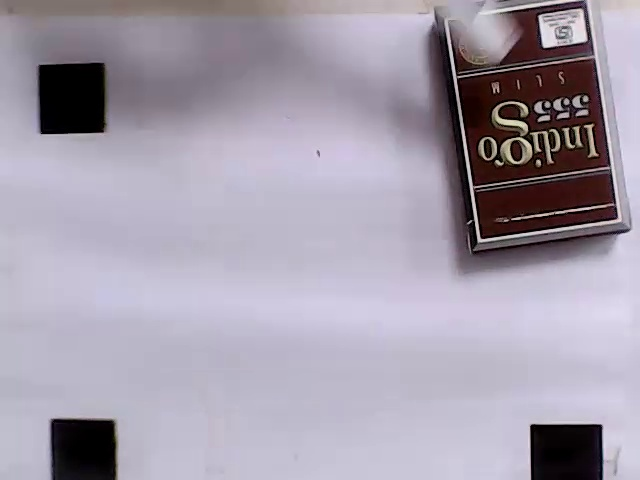BEX: (446, 0, 620, 241)
